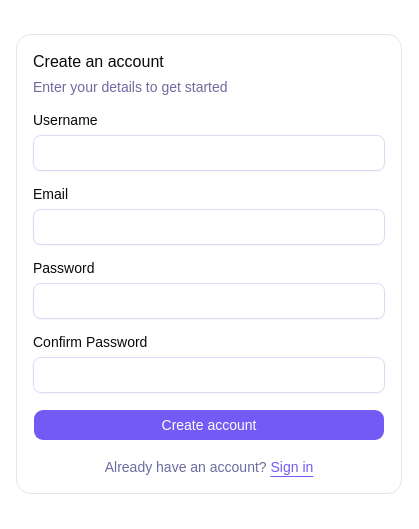
SignupPage › shows error on failed signup
Type "existing" into the field labelled "Username" at {"x": 209, "y": 153}, box [33, 135, 385, 171]
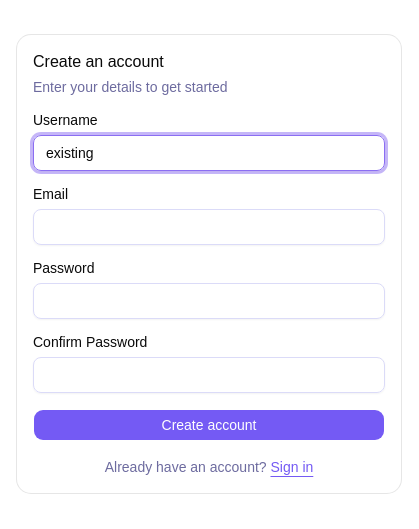
Type "e@e.com" into the field labelled "Email" at {"x": 209, "y": 227}, box [33, 209, 385, 245]
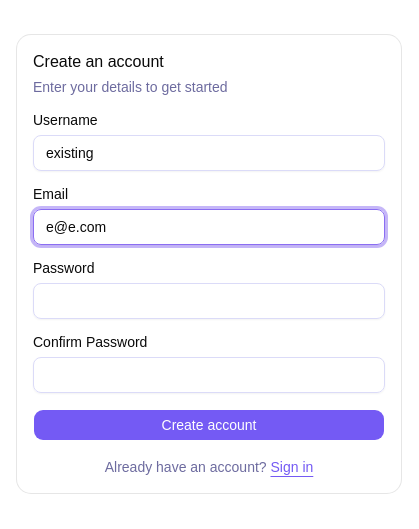
Type "pass123" into the password field labelled "Password" at {"x": 209, "y": 301}, box [33, 283, 385, 319]
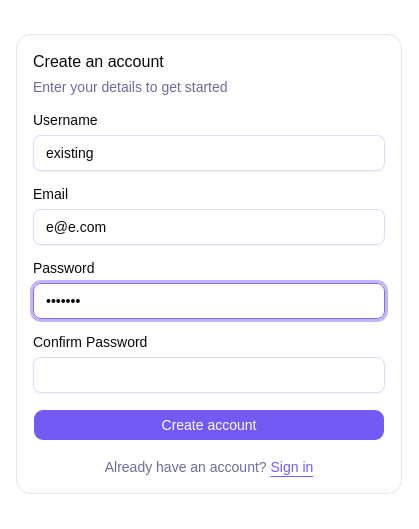
Type "pass123" into the password field labelled "Confirm Password" at {"x": 209, "y": 375}, box [33, 357, 385, 393]
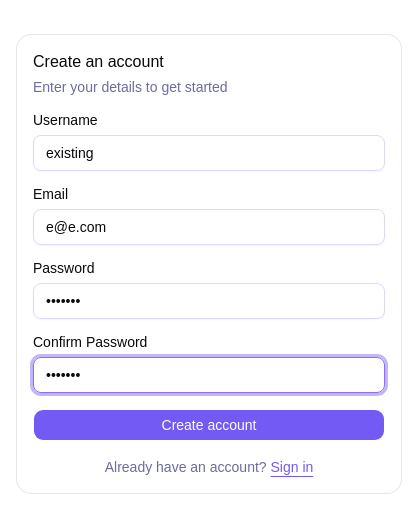
Click the button "Create account" at {"x": 209, "y": 425}, box [33, 409, 385, 441]
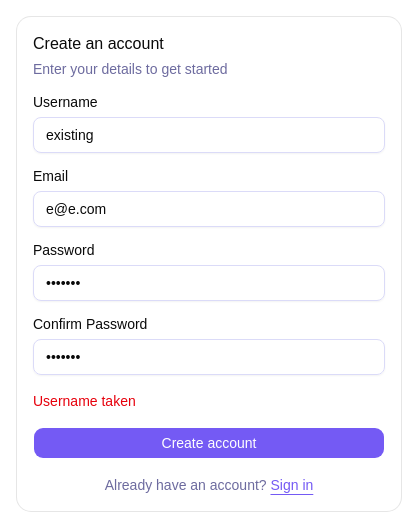
Expected: the text "Username taken" is shown, [33, 393, 136, 409]
